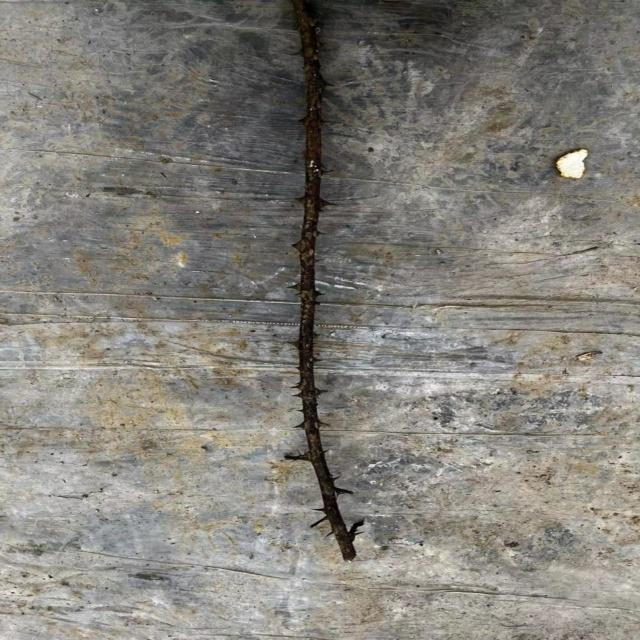branch: (291, 0, 356, 561)
